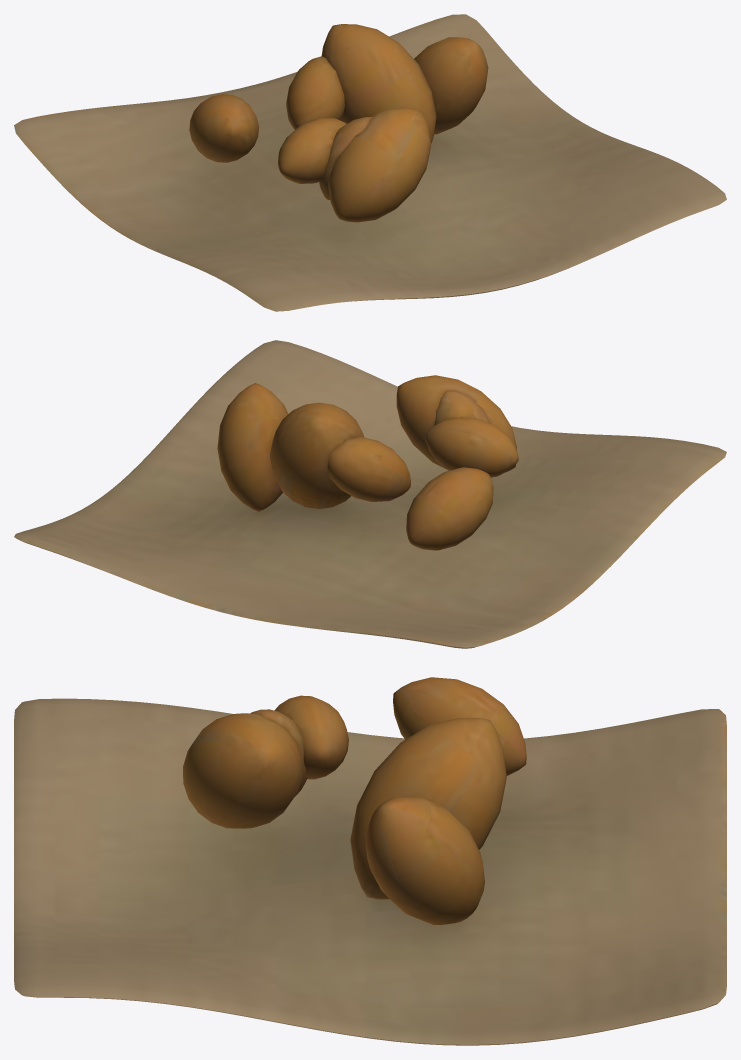
Rendered from rhubarb.glb.
3 renders of one model, top to bottom at view 1: azimuth 30°, elevation 25°; view 2: azimuth 150°, elevation 25°; view 3: azimuth 270°, elevation 25°, orthographic. The views are drawn at different scales.
Parts seen in each view (by area): view 1: rhubarb; view 2: rhubarb; view 3: rhubarb.
Part boxes in pixels (box(x1,y1,x2,y2)): rhubarb: box(14, 14, 726, 311); rhubarb: box(14, 340, 726, 648); rhubarb: box(14, 677, 726, 1045).
Bounding box in the file's own units: 0.1193 × 0.0365 × 0.1193.
Materials: 1 (1 with a texture image).
